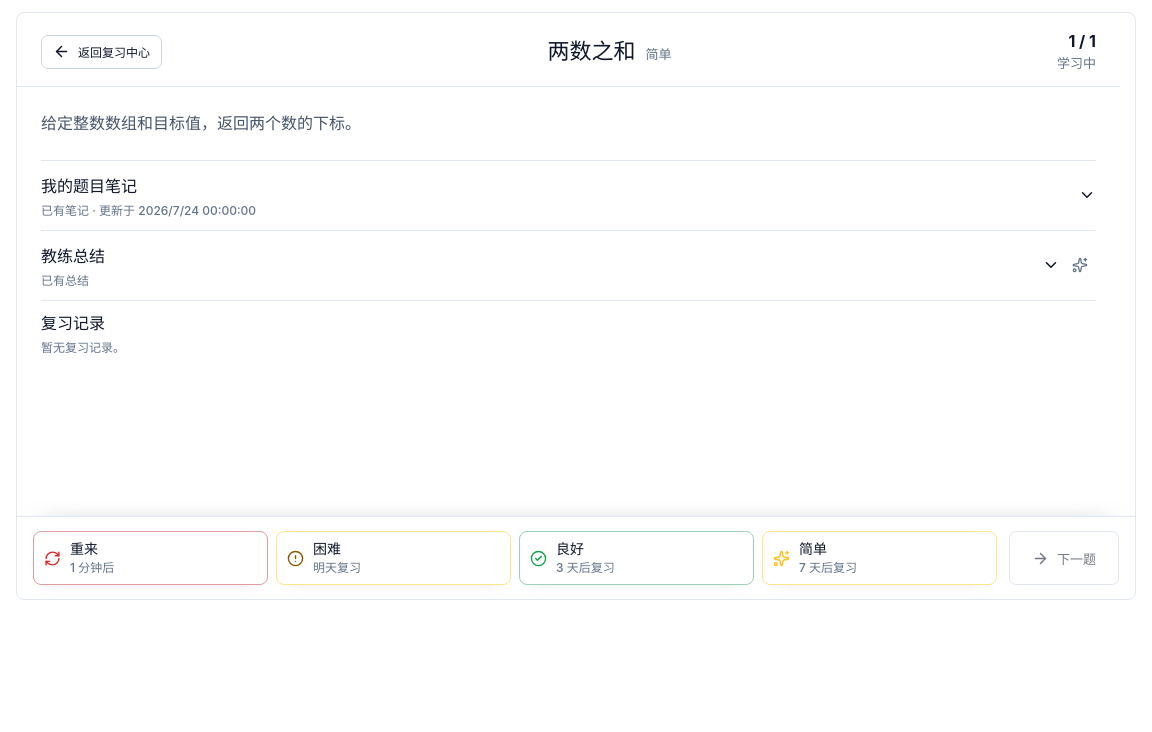
ReviewSessionPage › shows a revision conflict and preserves the local draft
Step 1. Click the button "我的题目笔记 已有笔记 · 更新于 2026/7/24 00:00:00" → (89,186), box [41,161,1096,230]
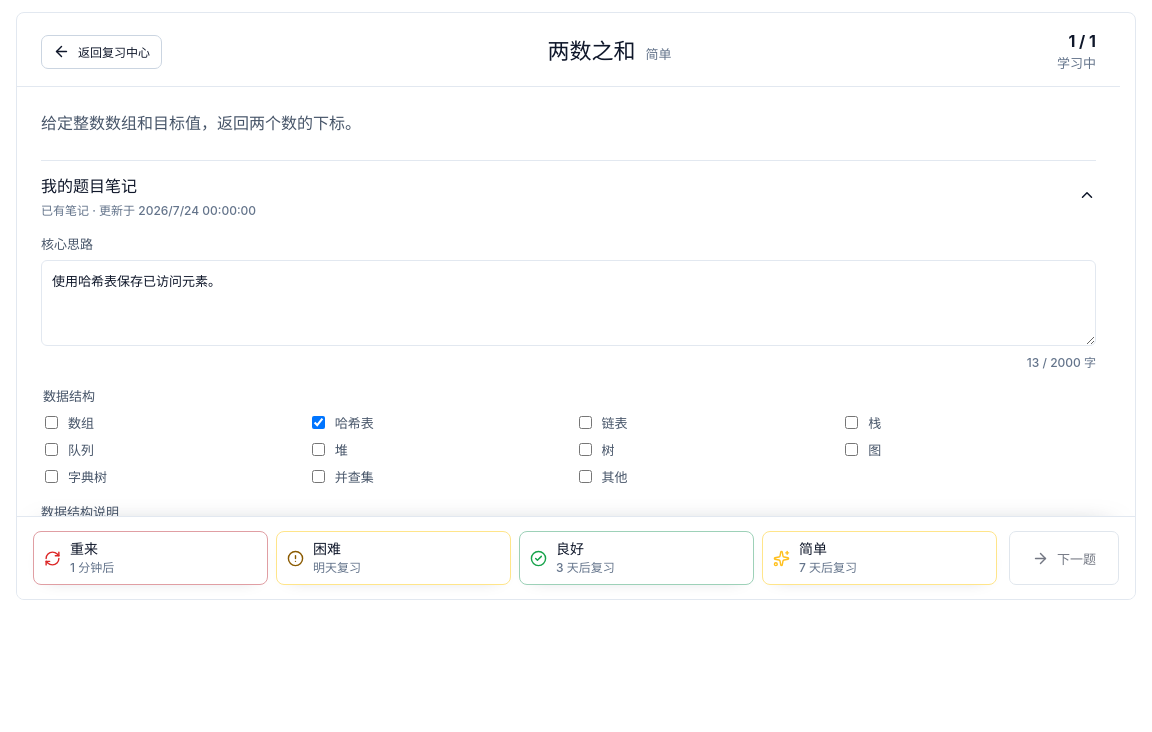
Step 2. Replace the text in the text box labelled "核心思路" with "本地冲突草稿" → (568,303), box [41,260,1096,346]
(page scrolled)
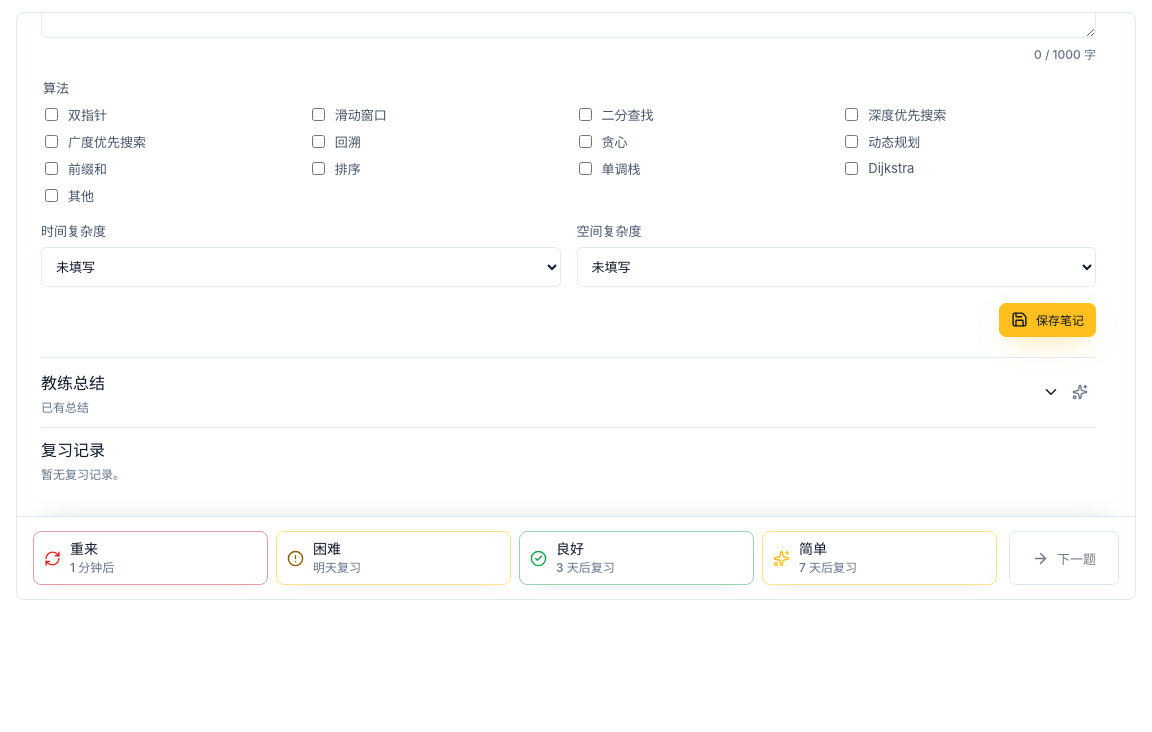
Step 3. Click the button "保存笔记" → (1048,320), box [999,303,1096,337]
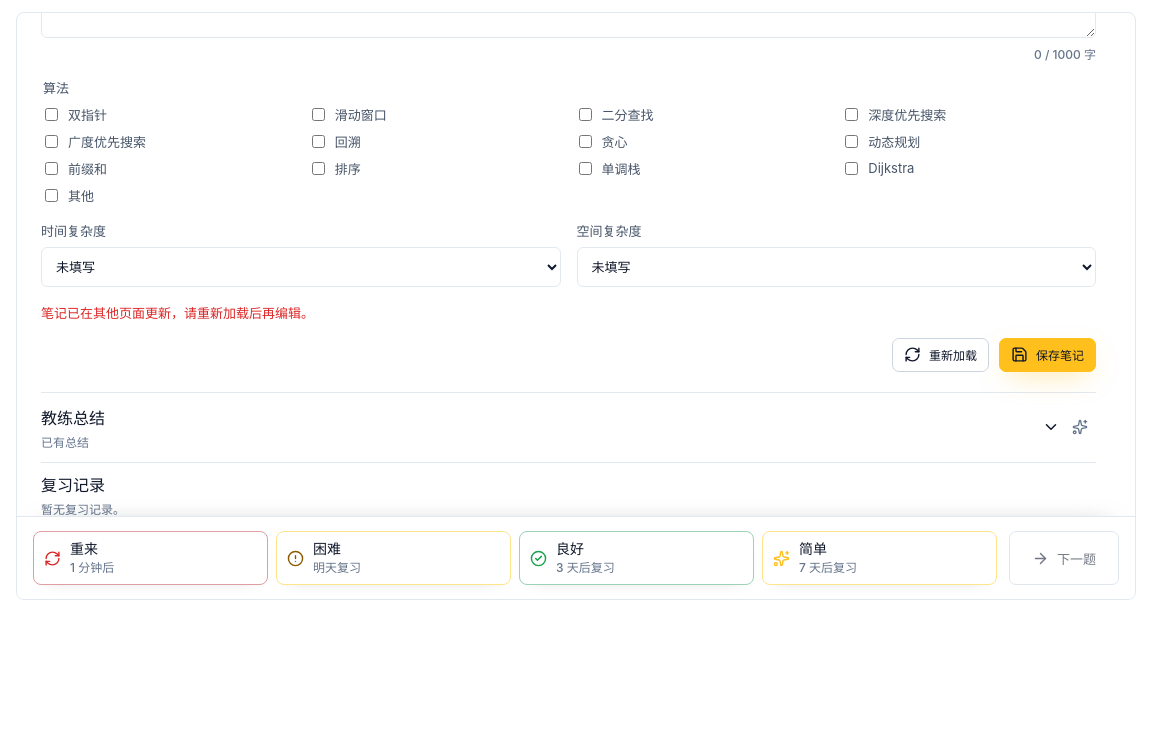
Now the message reads "笔记已在其他页面更新，请重新加载后再编辑。", box [41,305,314,321]
Now the button "重新加载" is shown, box [892,338,989,372]
